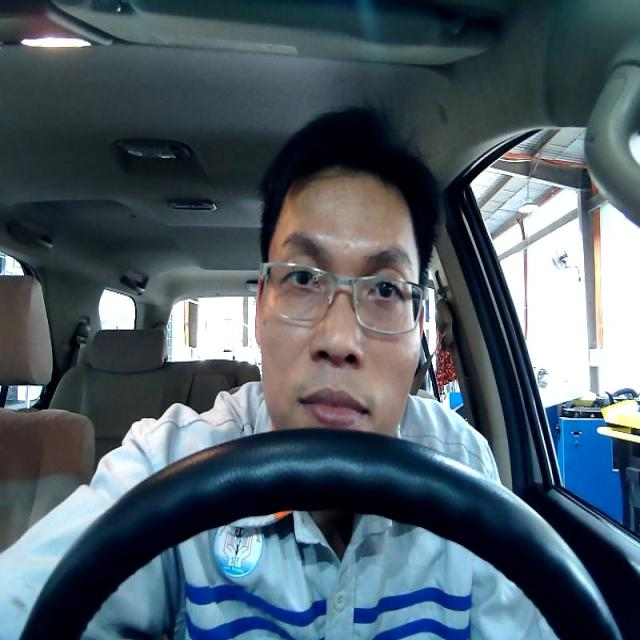focused: (255, 166, 423, 428)
